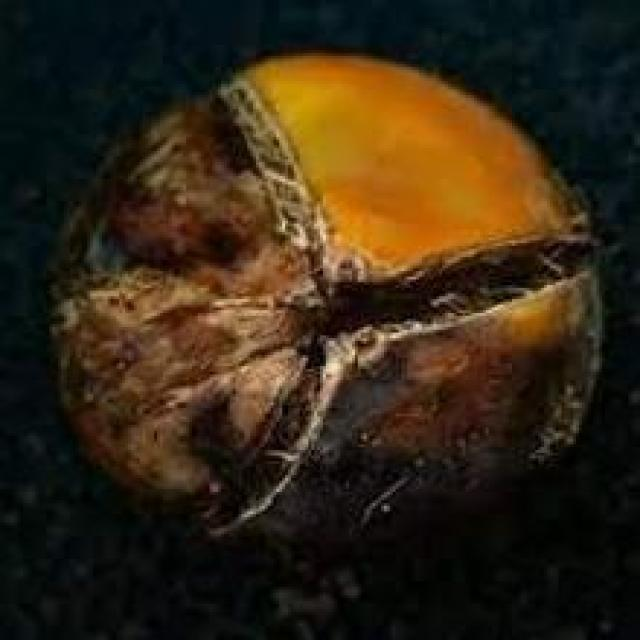damaged: (47, 50, 602, 545)
